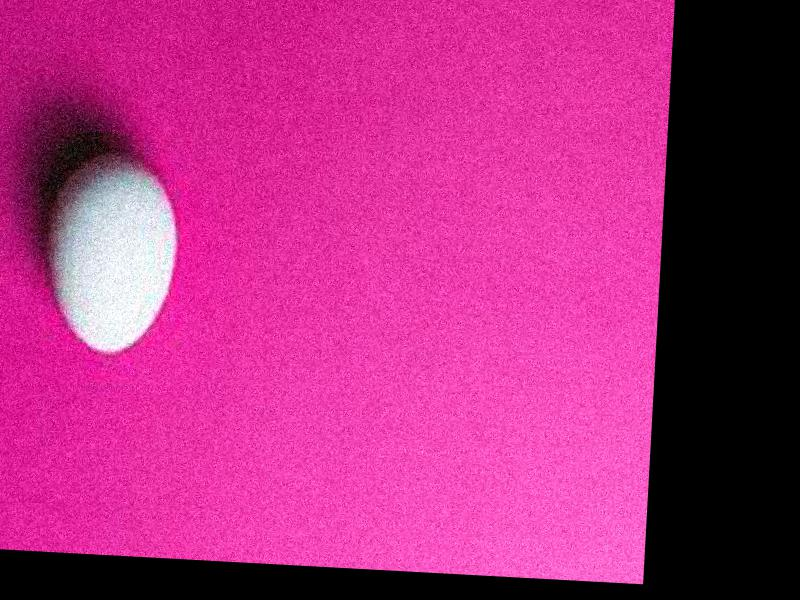Eggs: (43, 152, 181, 356)
